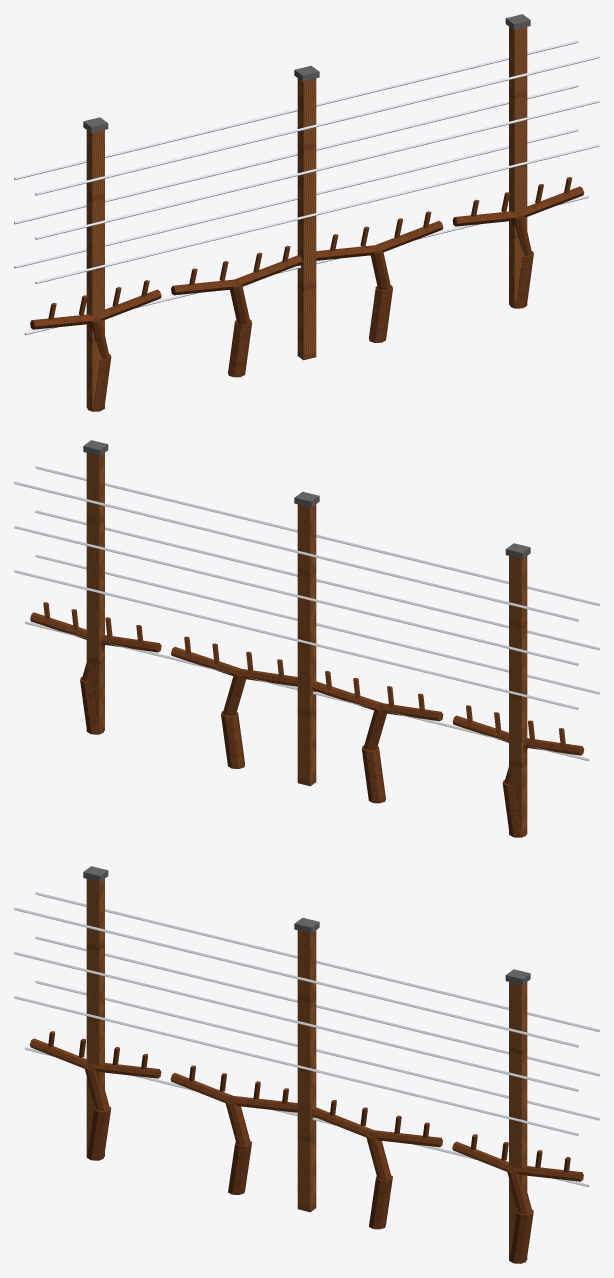
The model's file is vine-row-bare.glb.
3 renders of one model, top to bottom at view 1: azimuth 30°, elevation 25°; view 2: azimuth 150°, elevation 25°; view 3: azimuth 330°, elevation 25°, orthographic.
Visible parts, largest first — view 1: vine-row-bare-timber, vine-row-bare-oak, vine-row-bare-steel, vine-row-bare-dark; view 2: vine-row-bare-timber, vine-row-bare-steel, vine-row-bare-oak, vine-row-bare-dark; view 3: vine-row-bare-timber, vine-row-bare-oak, vine-row-bare-steel, vine-row-bare-dark.
Boxes of the visible parts, x1,y1,x2,y2 form: vine-row-bare-timber: [86, 27, 527, 411]; vine-row-bare-oak: [30, 177, 584, 411]; vine-row-bare-steel: [14, 40, 599, 335]; vine-row-bare-dark: [83, 14, 530, 132]; vine-row-bare-timber: [86, 453, 527, 837]; vine-row-bare-steel: [14, 466, 599, 761]; vine-row-bare-oak: [30, 602, 584, 837]; vine-row-bare-dark: [83, 440, 530, 558]; vine-row-bare-timber: [86, 879, 527, 1263]; vine-row-bare-oak: [29, 1031, 583, 1263]; vine-row-bare-steel: [14, 892, 599, 1187]; vine-row-bare-dark: [83, 866, 530, 984].
Size of the model in its own units: 4 by 1.94 by 0.2778.
Materials: 4 (2 with a texture image).
